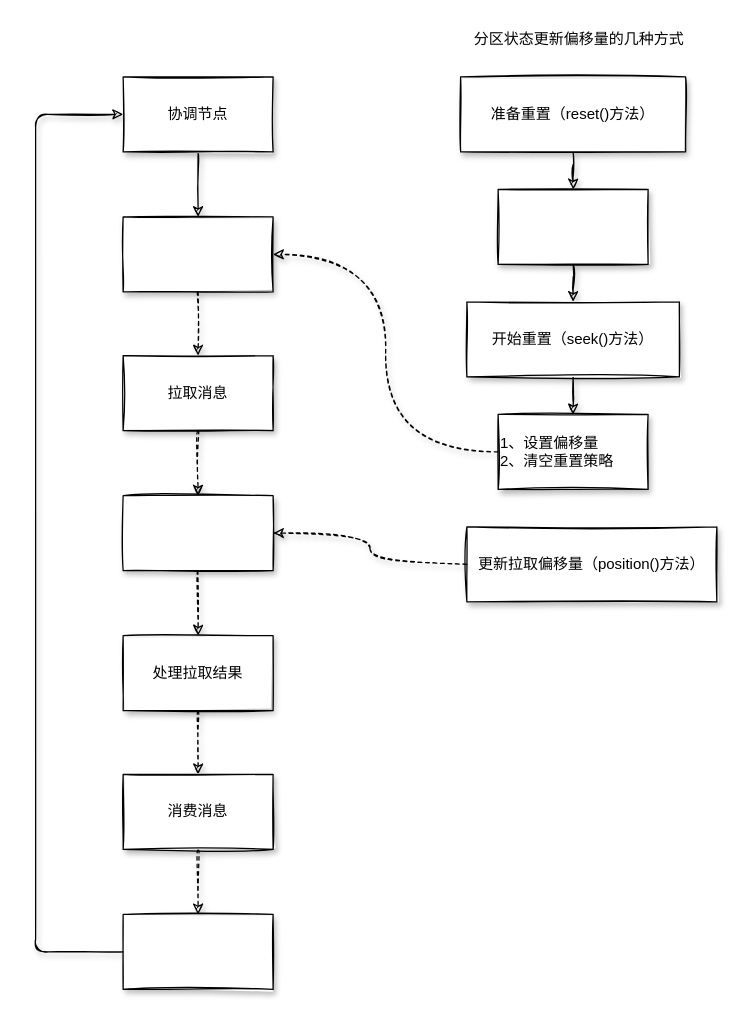
The diagram is 746 pixels wide and 1020 high, and some of its shapes have lost their labels. The shapes that lost their labels are listed below. From the top down, each one's centre as x and y in pixels, then its label:
the point at 574,228: 1、设置重置策略 2、清空偏移量
the point at 199,256: 获取拉取状态
the point at 199,534: 更新拉取状态
the point at 199,953: 提交消费状态
